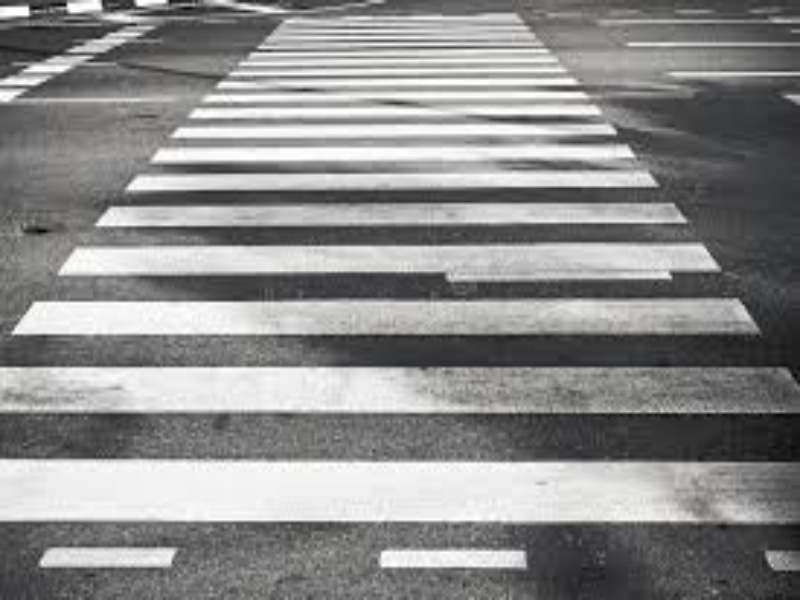zebra cross: (1, 16, 797, 527)
